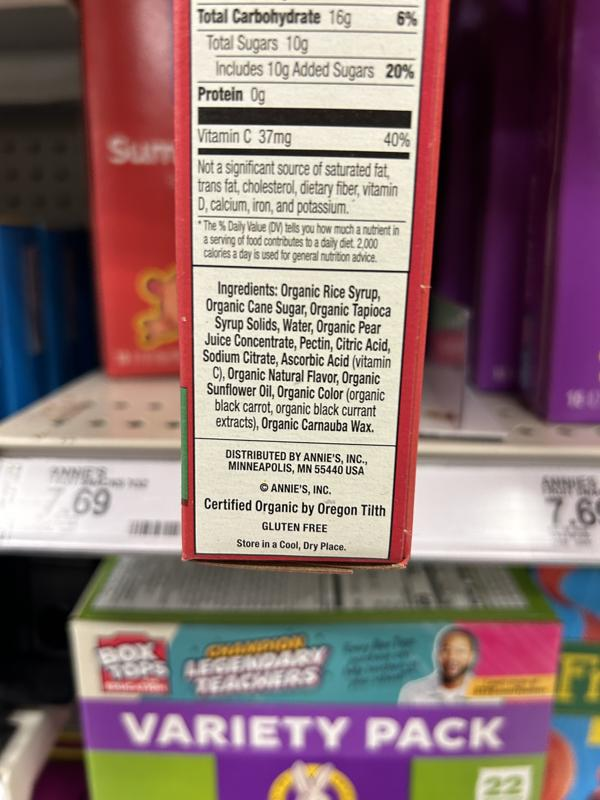ingredients: (199, 279, 395, 435)
